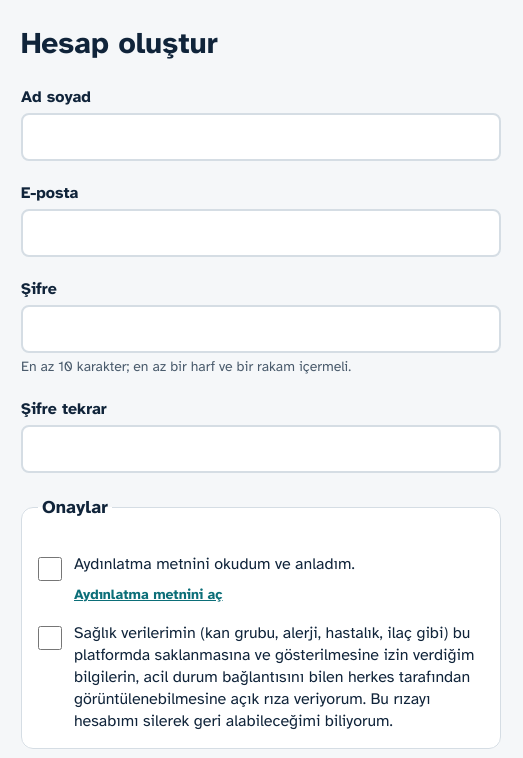
Scenario: Kayıt formu › şifre eşleşmezse uyarır
In the field labelled "Ad soyad": (261,137) [21,113,501,161], type "Ayşe Yılmaz"
In the field labelled "E-posta": (261,233) [21,209,501,257], type "ayse@example.com"
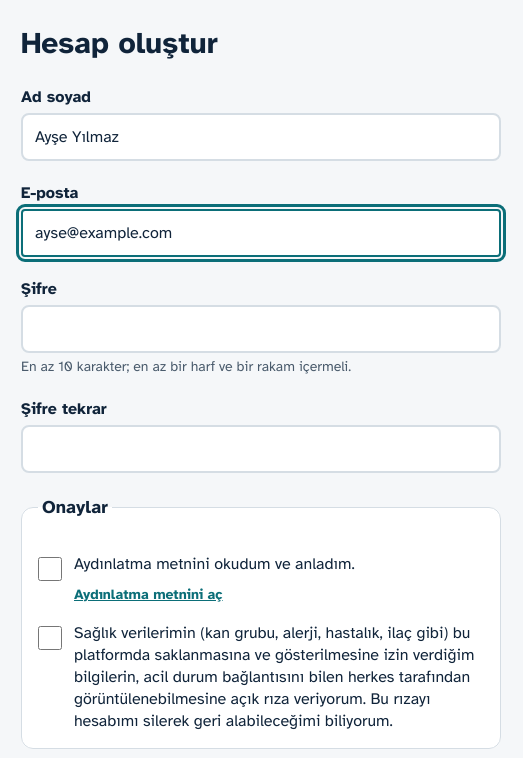
In the password field labelled "Şifre": (261,329) [21,305,501,353], type "GucluSifre123"
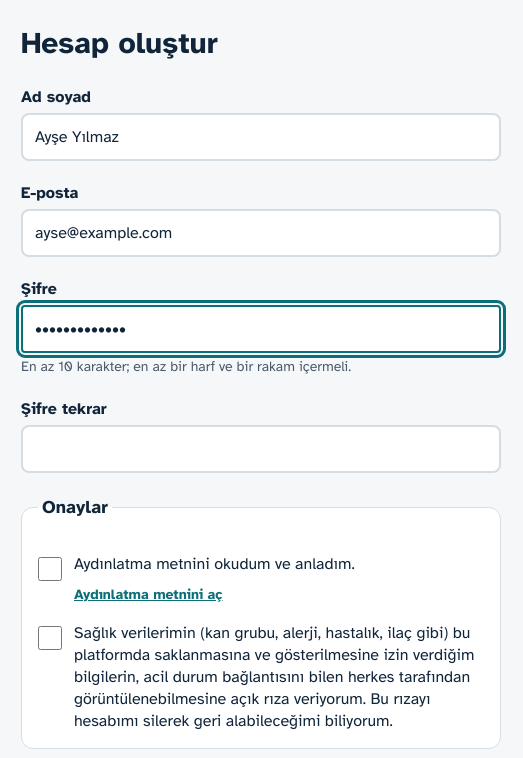
In the password field labelled "Şifre tekrar": (261,449) [21,425,501,473], type "Baska12345678"
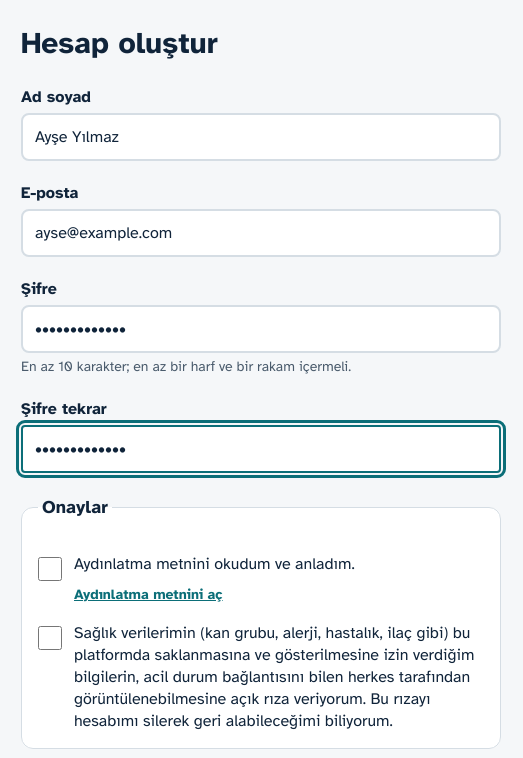
Click the checkbox labelled "Aydınlatma metnini okudum ve anladım.": (50,569) [38,557,62,581]
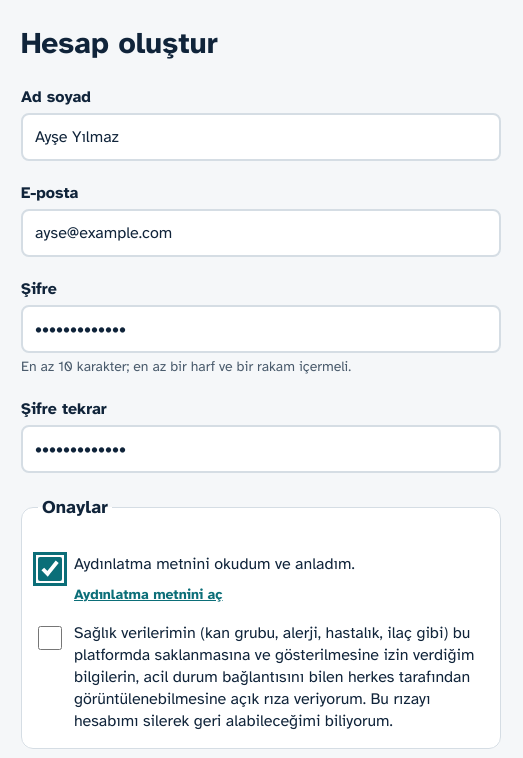
Click the checkbox named "açık rıza veriyorum": (50,638) [38,626,62,650]
(page scrolled)
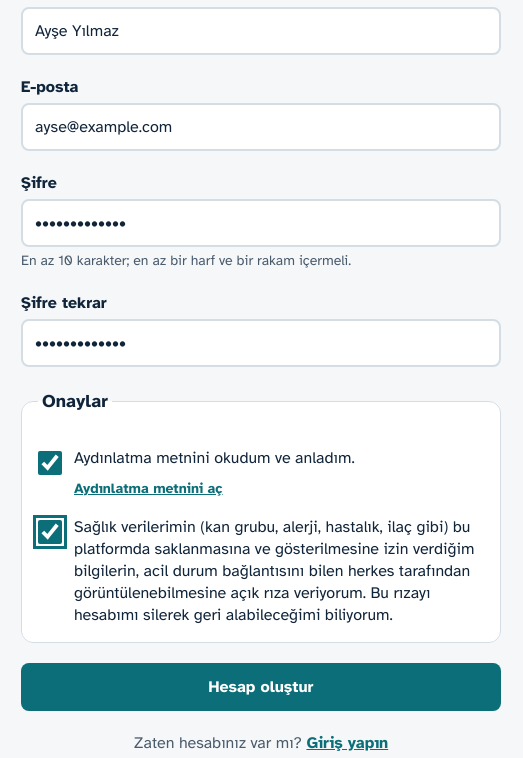
Click the button "Hesap oluştur": (261,687) [21,663,501,711]
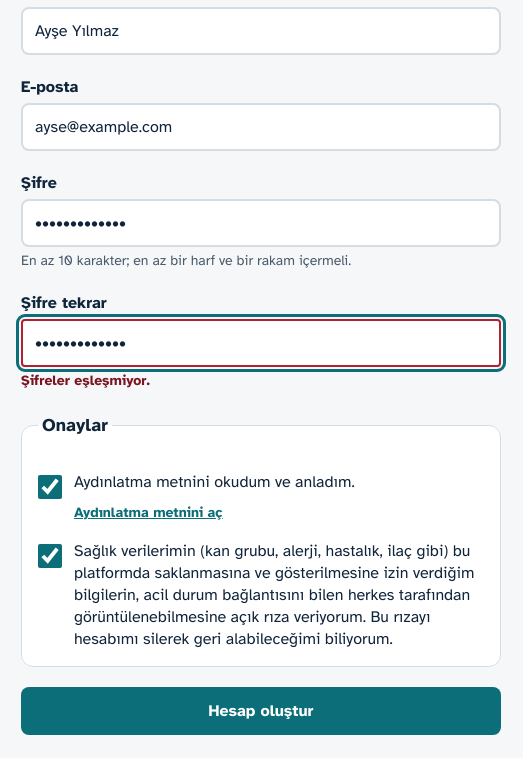
expect the text "Şifreler eşleşmiyor." is shown: met, box [21,372,150,389]
